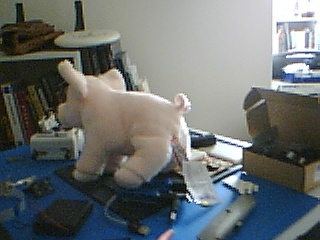piggy: (54, 57, 195, 191)
